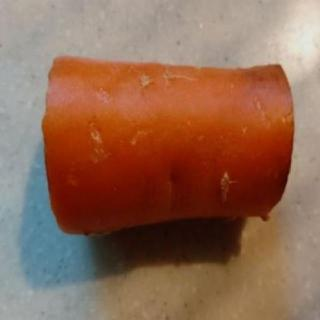carrot: (35, 48, 303, 248)
